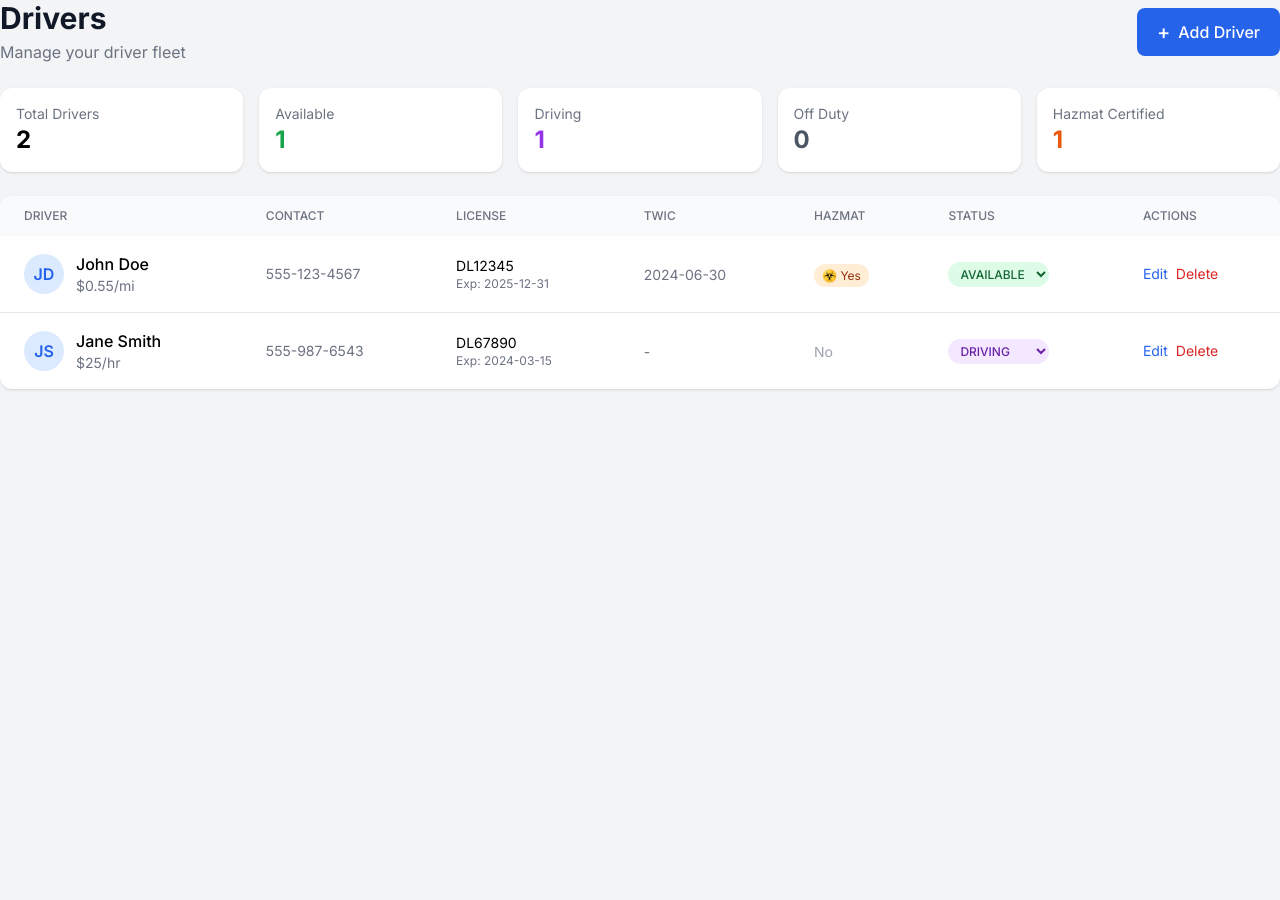
Test: DriversPage › edit driver › should open modal with driver data when Edit is clicked
The width and height of the screenshot is (1280, 900).
expect the text "John Doe" is shown: met, box [76,252,149,276]
Click the button "Edit" in the row of "John" at [1155, 274], box [1143,264,1168,284]
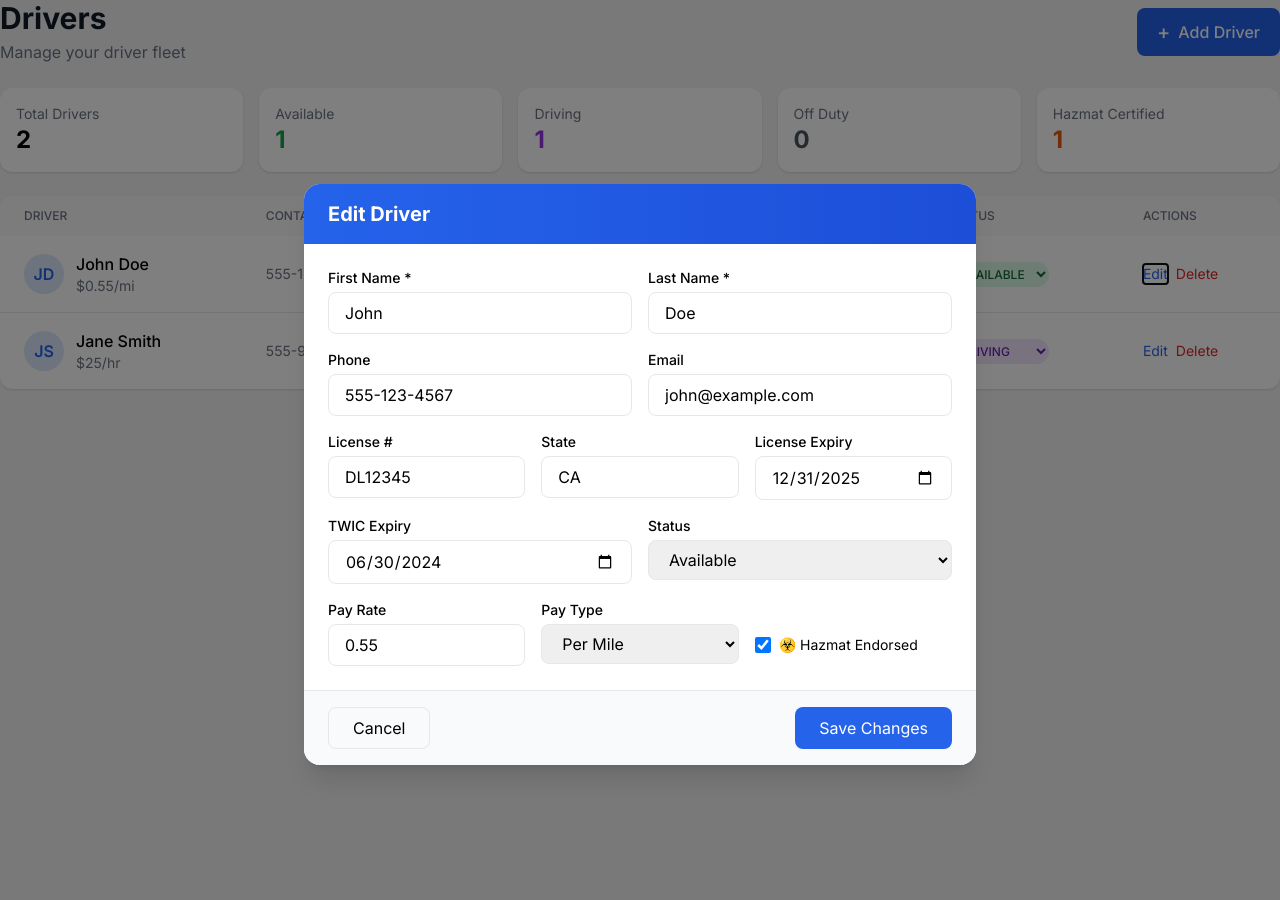
expect the heading "Edit Driver" is shown: met, box [328,202,430,226]
expect the field showing "John" below "First Name *" is shown: met, box [328,292,632,334]
expect the field showing "Doe" below "Last Name *" is shown: met, box [648,292,952,334]
